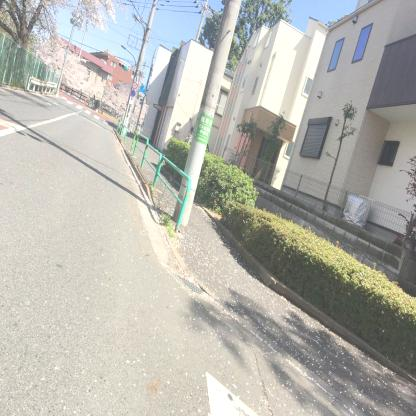Someiyoshino: (20, 0, 134, 39), (38, 30, 91, 96), (99, 76, 152, 123)
